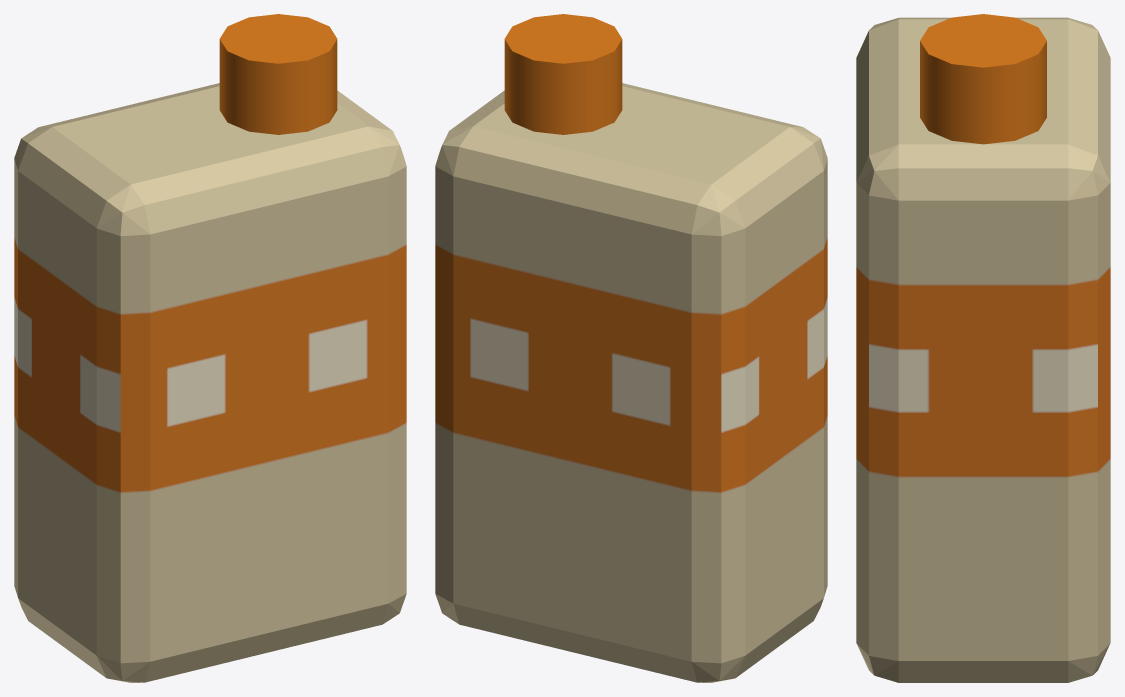
Rendered from detergent.glb.
3 views of the same model, side by side, from view 1: azimuth 30°, elevation 25°; view 2: azimuth 150°, elevation 25°; view 3: azimuth 270°, elevation 25° (orthographic). The views are drawn at different scales.
Visible parts, largest first — view 1: detergent; view 2: detergent; view 3: detergent.
Part boxes in pixels (left/top/right/bottom): detergent: left=14, top=14, right=406, bottom=682; detergent: left=435, top=14, right=827, bottom=682; detergent: left=856, top=14, right=1110, bottom=682.
Size of the model in its own units: 0.18 by 0.32 by 0.12.
2 materials, 1 textured.
